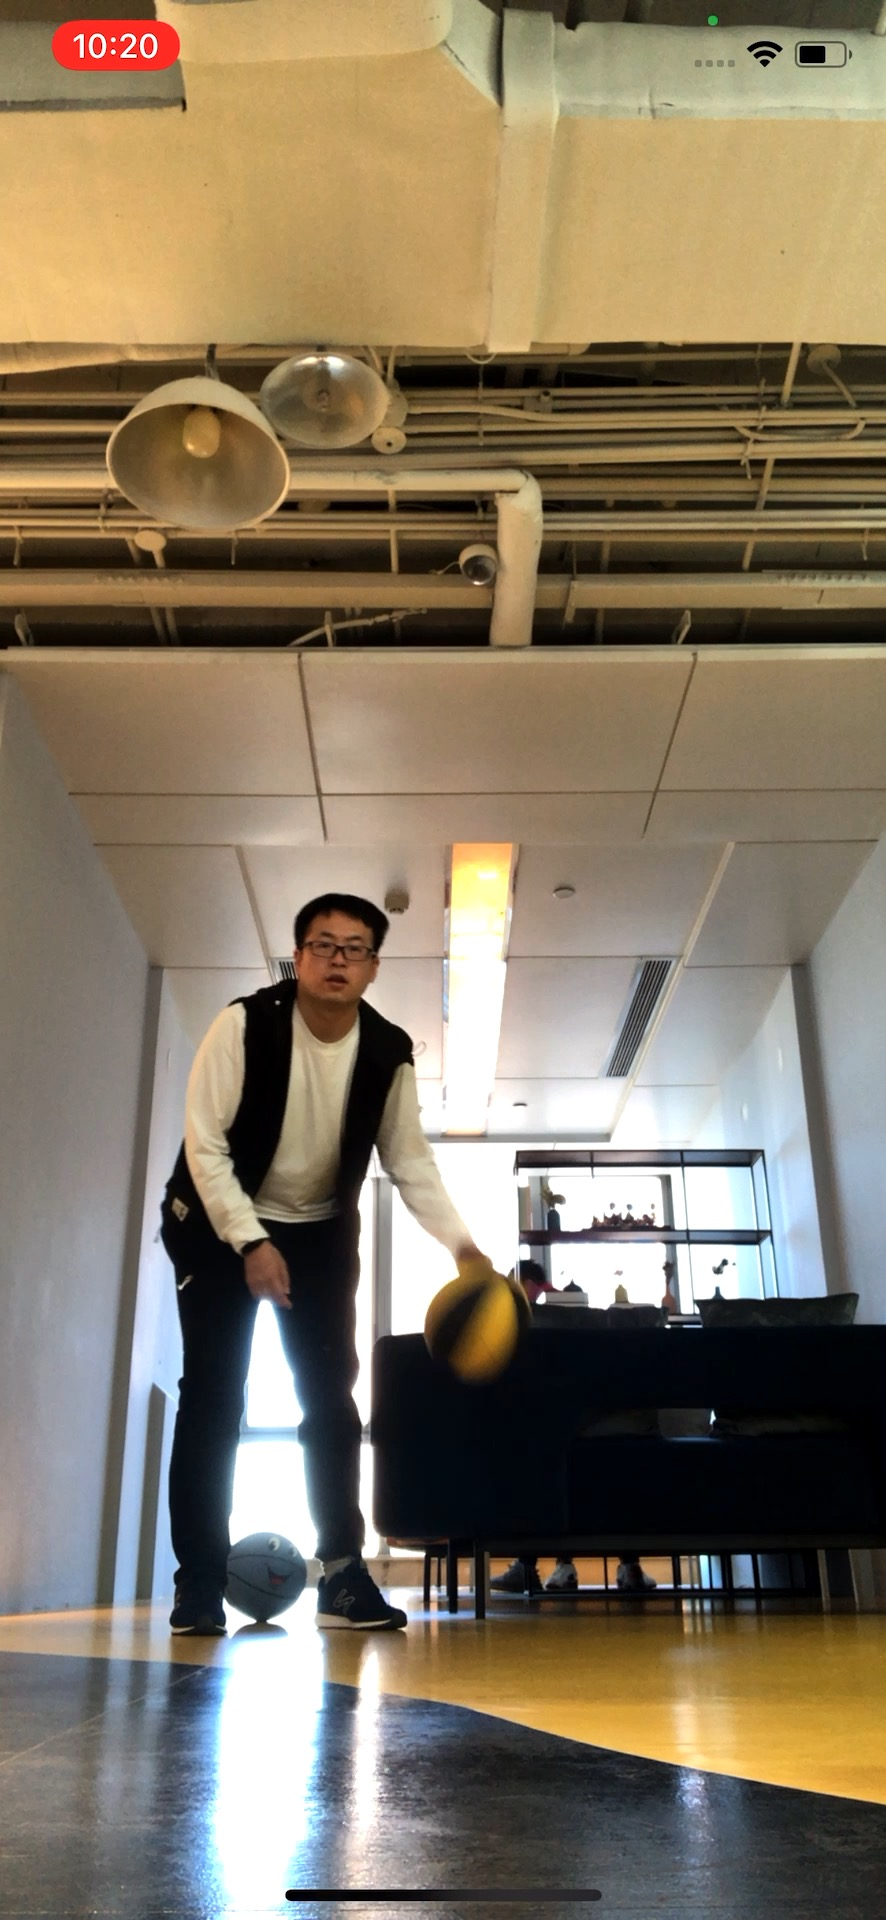ball: (425, 1272, 535, 1389), (217, 1537, 308, 1619)
